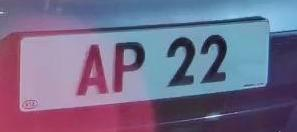2: (157, 31, 199, 95), (197, 30, 231, 86)
A: (72, 36, 113, 105)
P: (108, 32, 152, 105)
